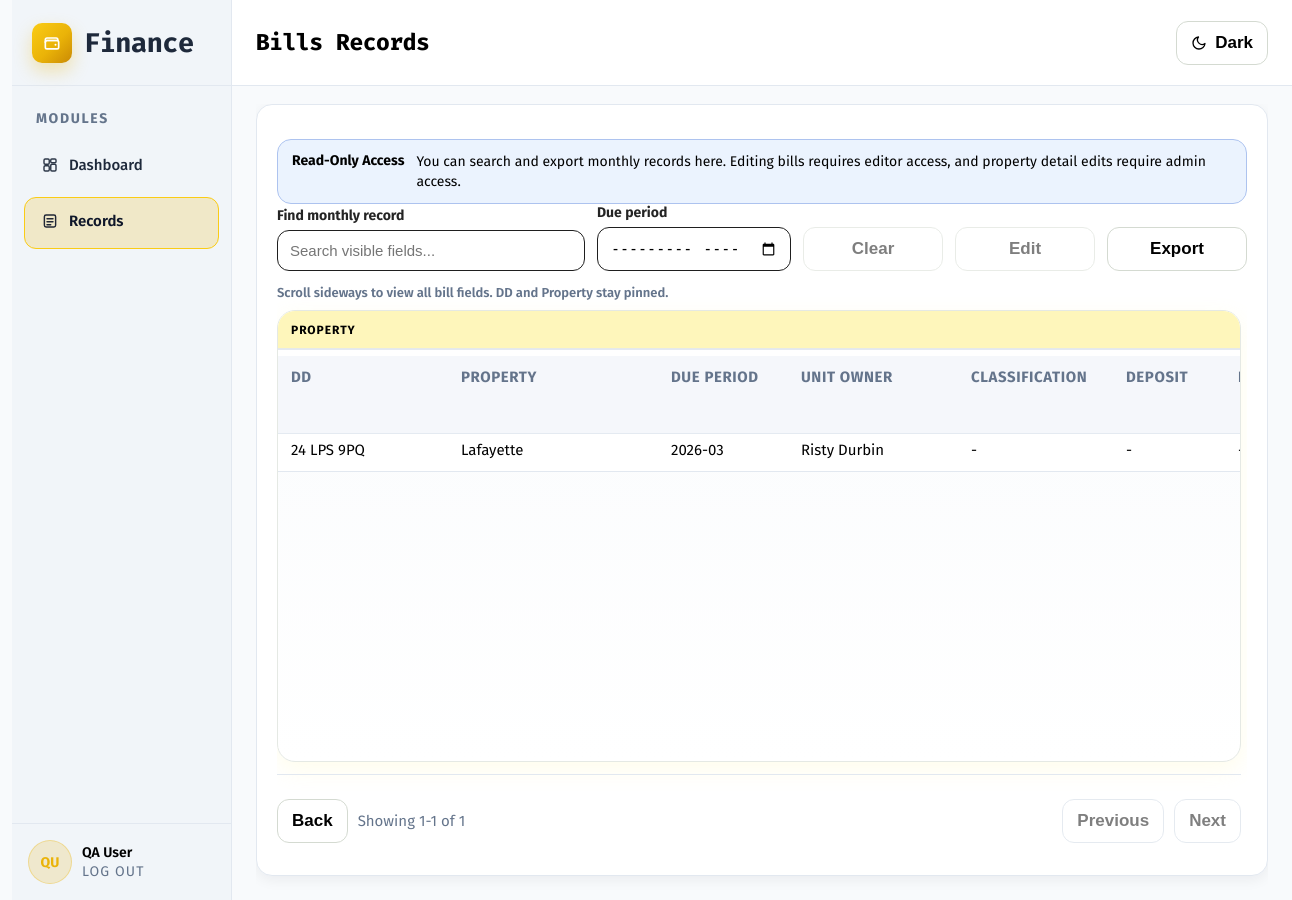
Test case: RecordsPage RBAC › keeps the records workspace read-only for viewers
The image size is (1292, 900).
Expected: the text "Read-Only Access" is shown, [292, 152, 404, 169]
Step 1. Click the text "24 LPS 9PQ" → (363,450), box [278, 429, 448, 472]
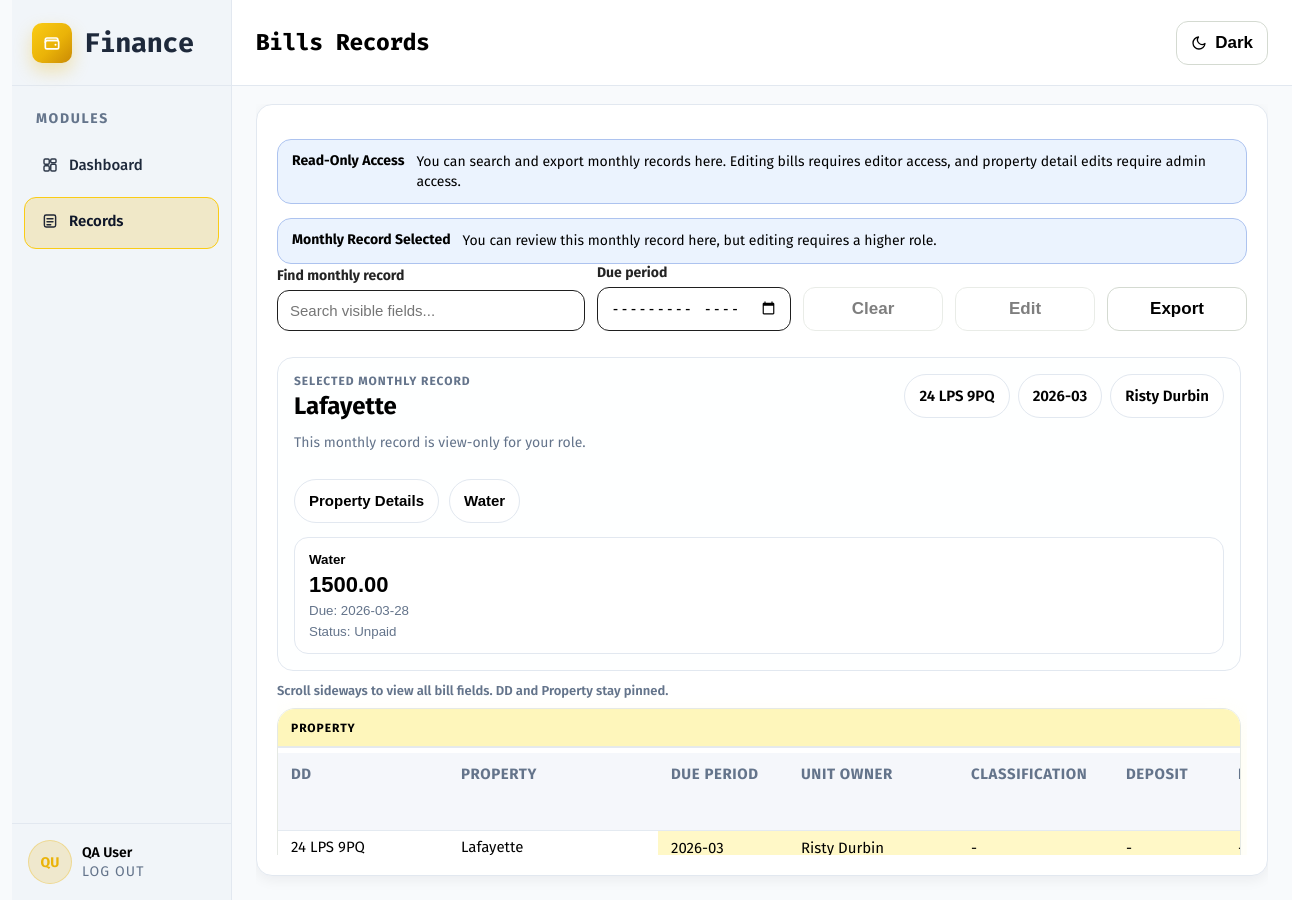
Expected: the button "Edit" is disabled, [955, 287, 1095, 331]
Expected: the button with aria-label "edit property" is disabled, [294, 479, 439, 523]
Expected: the button with aria-label "edit water" is disabled, [449, 479, 520, 523]
